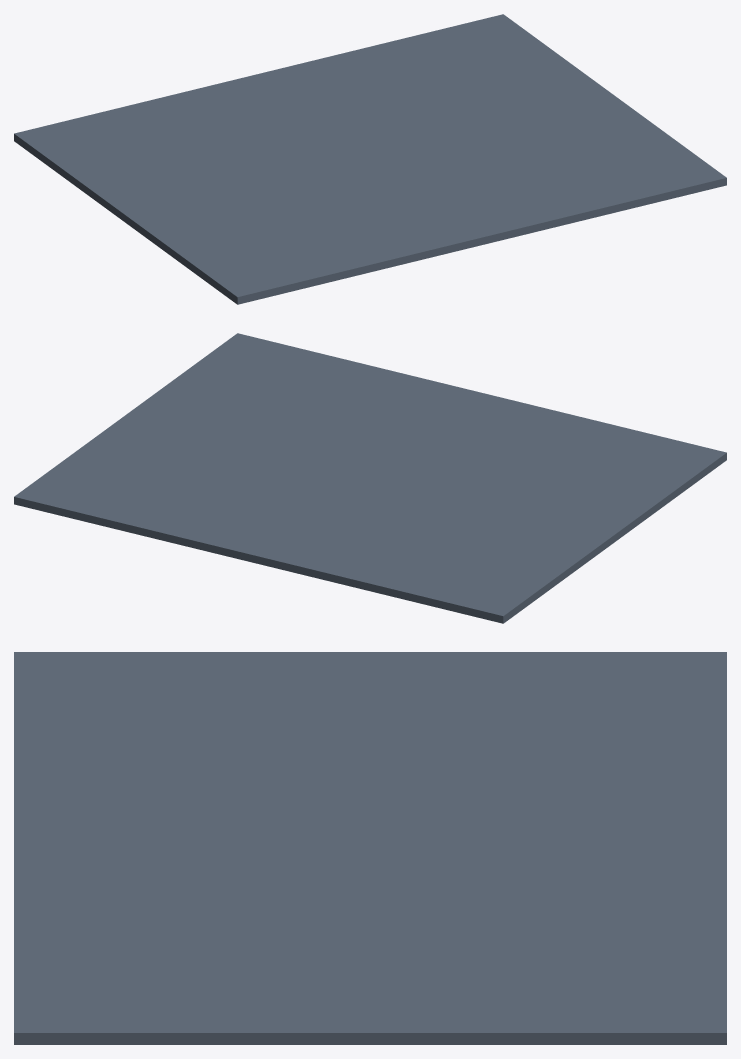
File: 05_PS_Studio_CeilingStructure.glb
3 views of the same model, one above another, from view 1: azimuth 30°, elevation 25°; view 2: azimuth 150°, elevation 25°; view 3: azimuth 270°, elevation 25° (orthographic). The views are drawn at different scales.
Parts seen in each view (by area): view 1: PS_Studio_CeilingStructure; view 2: PS_Studio_CeilingStructure; view 3: PS_Studio_CeilingStructure.
Boxes of the visible parts, x1,y1,x2,y2 form: PS_Studio_CeilingStructure: (14,14,726,304); PS_Studio_CeilingStructure: (14,333,726,623); PS_Studio_CeilingStructure: (14,652,726,1044).
Size of the model in its own units: 18.2 by 0.44 by 14.4.
